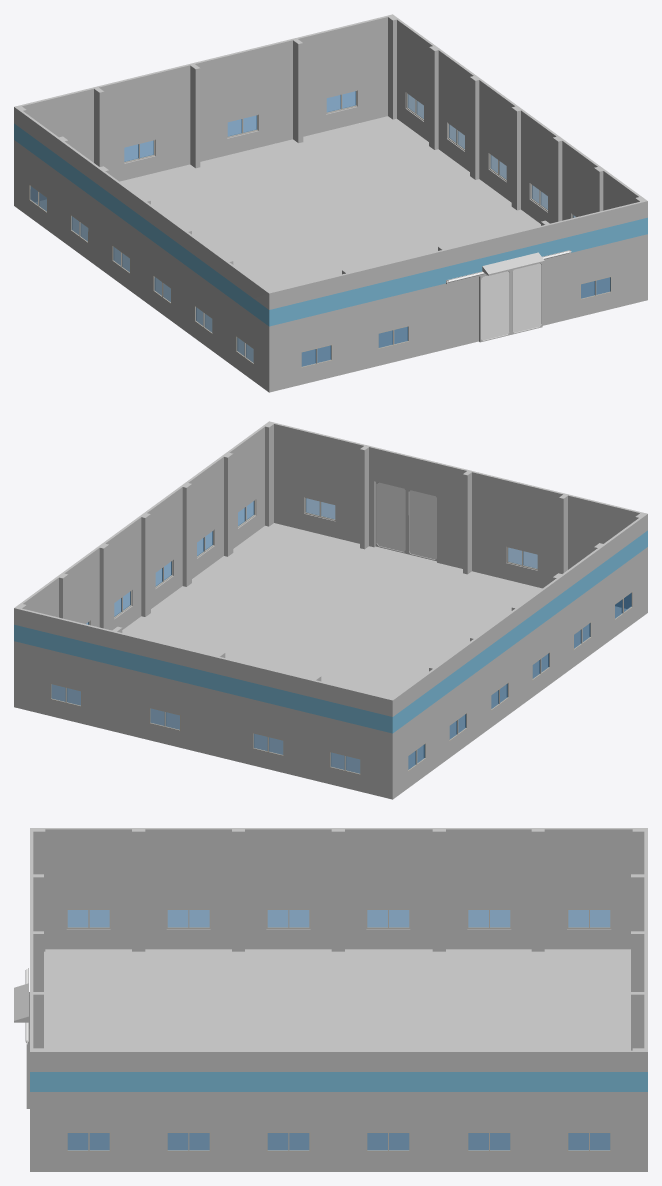
3 views of the same model, one above another, from view 1: azimuth 30°, elevation 25°; view 2: azimuth 150°, elevation 25°; view 3: azimuth 270°, elevation 25° (orthographic). The views are drawn at different scales.
Parts seen in each view (by area): view 1: V8동_1F_벽, V8동_1F_바닥, V8동_1F_창문, V8동_1F_양개문; view 2: V8동_1F_벽, V8동_1F_바닥, V8동_1F_창문, V8동_1F_양개문; view 3: V8동_1F_벽, V8동_1F_바닥, V8동_1F_창문, V8동_1F_양개문.
Part boxes in pixels (bbox=[...]): V8동_1F_벽: bbox=[14, 14, 647, 392]; V8동_1F_바닥: bbox=[35, 116, 609, 366]; V8동_1F_창문: bbox=[29, 90, 611, 368]; V8동_1F_양개문: bbox=[446, 250, 571, 342]; V8동_1F_벽: bbox=[14, 421, 647, 799]; V8동_1F_바닥: bbox=[52, 523, 626, 773]; V8동_1F_창문: bbox=[50, 497, 632, 775]; V8동_1F_양개문: bbox=[375, 482, 436, 561]; V8동_1F_벽: bbox=[30, 828, 647, 1171]; V8동_1F_바닥: bbox=[44, 949, 630, 1149]; V8동_1F_창문: bbox=[66, 909, 611, 1151]; V8동_1F_양개문: bbox=[14, 968, 29, 1108].
Size of the model in its own units: 24 by 6 by 28.72.
